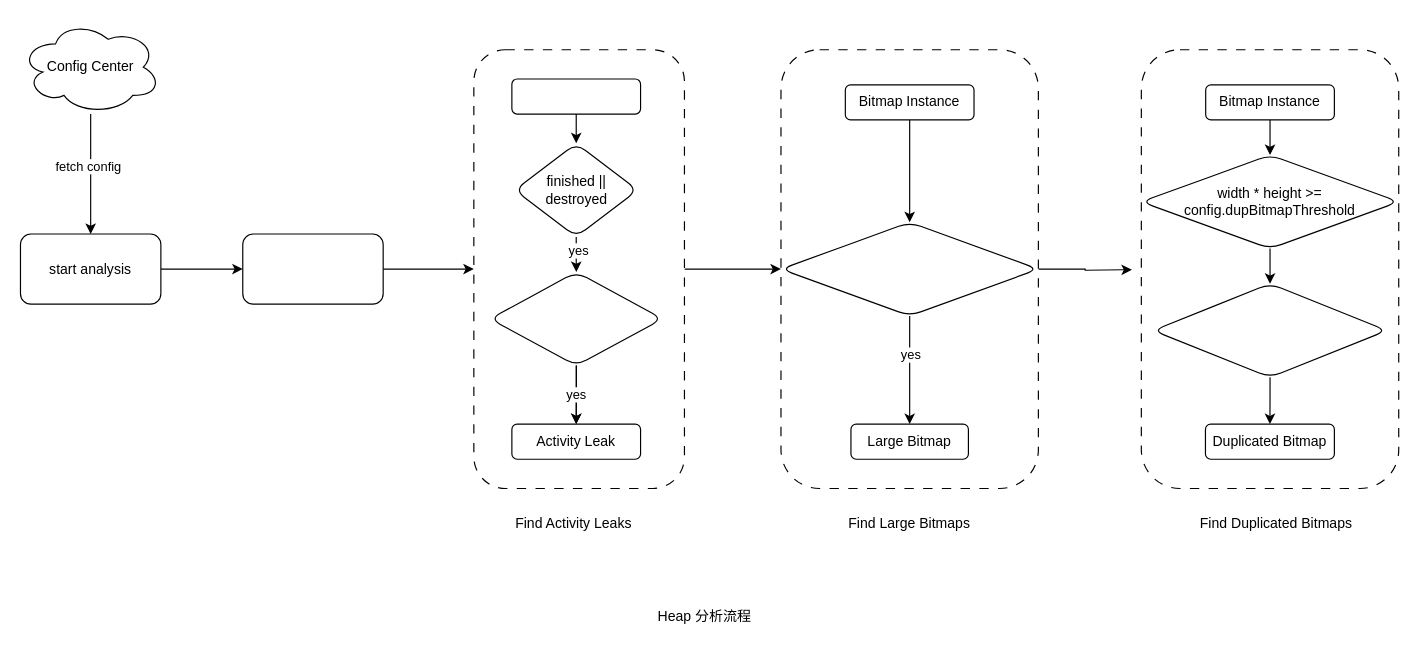
The diagram is 1419 pixels wide and 655 high, and some of its shapes have lost their labels. The centre of each missing label's shape, as x and y in pixels:
Activity Instance: pixel 576 96
build heap graph: pixel 312 268
count >= config.activityCount: pixel 576 318
count >= config.dupBitmapCount: pixel 1269 330
width * height >= config.largeBitmapThreshold: pixel 909 268
